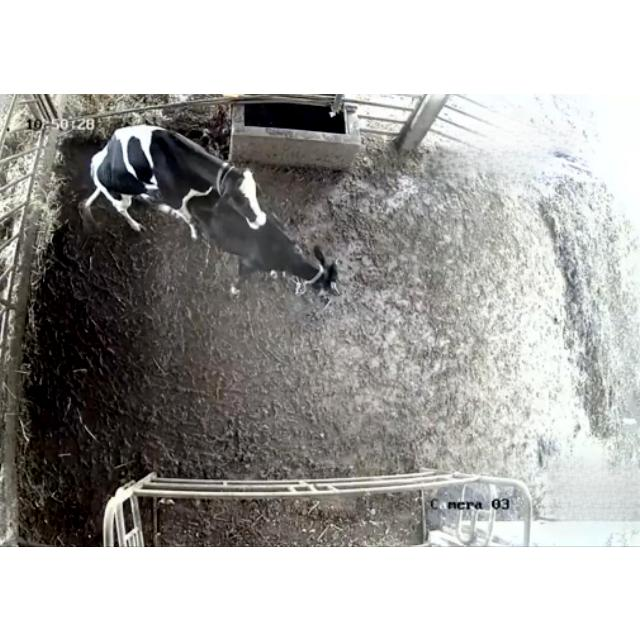ride: (81, 123, 266, 239)
